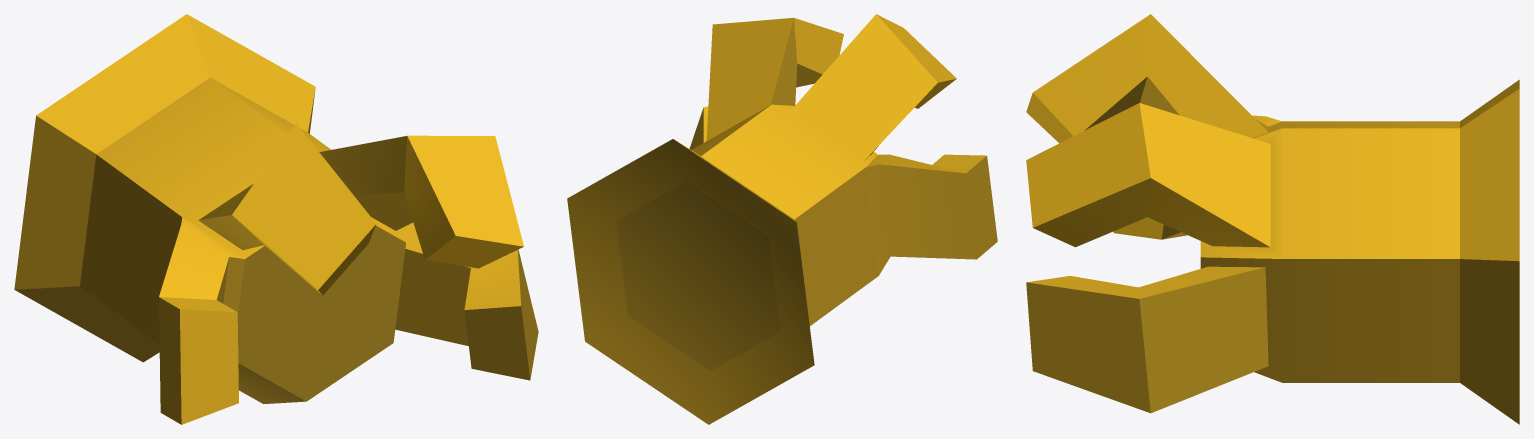
File: Luva_Esquerda.fbx
The picture shows the model from 3 angles, left to right: view 1: azimuth 30°, elevation 25°; view 2: azimuth 150°, elevation 25°; view 3: azimuth 270°, elevation 25°; orthographic projection. The views are drawn at different scales.
Parts seen in each view (by area): view 1: Cylinder.004; view 2: Cylinder.004; view 3: Cylinder.004.
Part boxes in pixels (box(x1,y1,x2,y2)): Cylinder.004: box(14, 14, 538, 424); Cylinder.004: box(567, 14, 997, 424); Cylinder.004: box(1026, 14, 1519, 424).
Bounding box in the file's own units: 231 × 222 × 255.
1 material, 1 textured.
